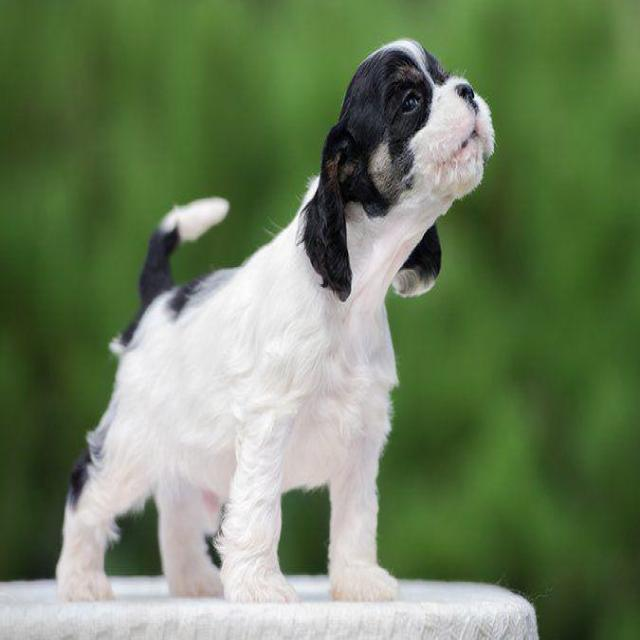Dog: (302, 24, 500, 323)
